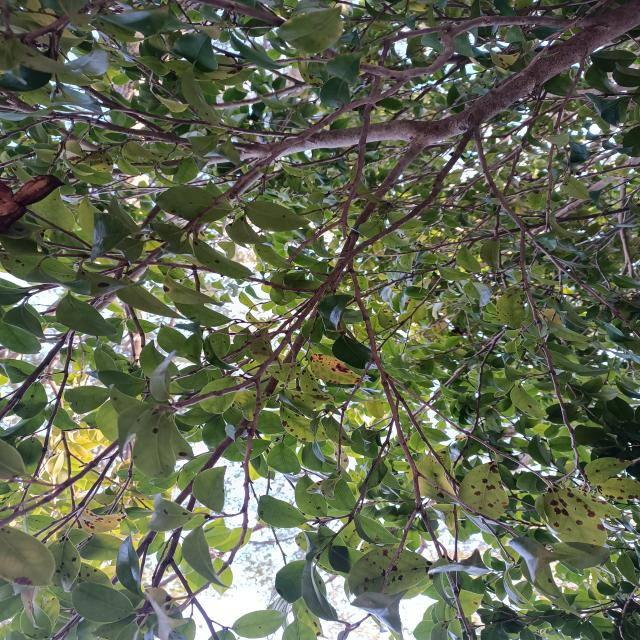Branch: (233, 2, 640, 160)
Twig: (0, 139, 426, 525), (49, 306, 324, 640), (349, 262, 474, 640), (286, 25, 451, 263), (474, 127, 640, 336), (183, 78, 410, 230), (204, 0, 596, 79), (520, 231, 592, 490), (355, 137, 469, 256), (395, 205, 640, 254), (0, 104, 235, 146), (419, 473, 522, 536), (379, 505, 416, 594)
